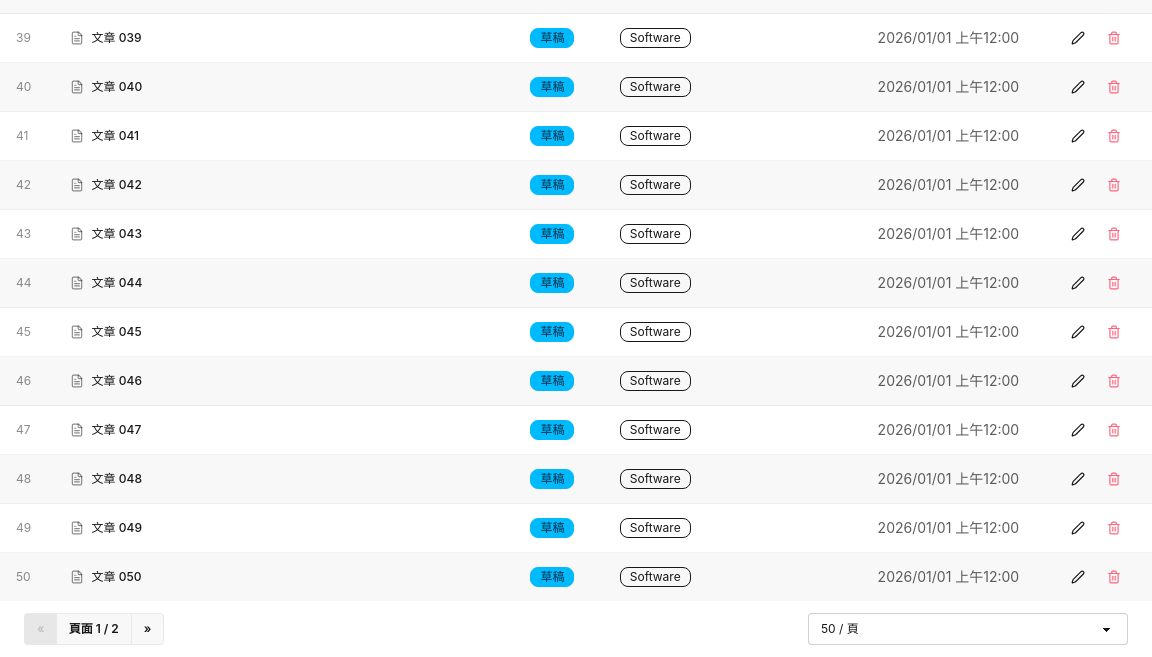
Scenario: ArticleManagement 組件 — 分頁行為 › 點擊下一頁按鈕後，分頁列顯示「頁面 2 / 2」
This screenshot has width=1152, height=657.
(page scrolled)
Click the button with class "join-item" showing "»".
click(148, 629)  # box [131,613,164,645]
(page scrolled)
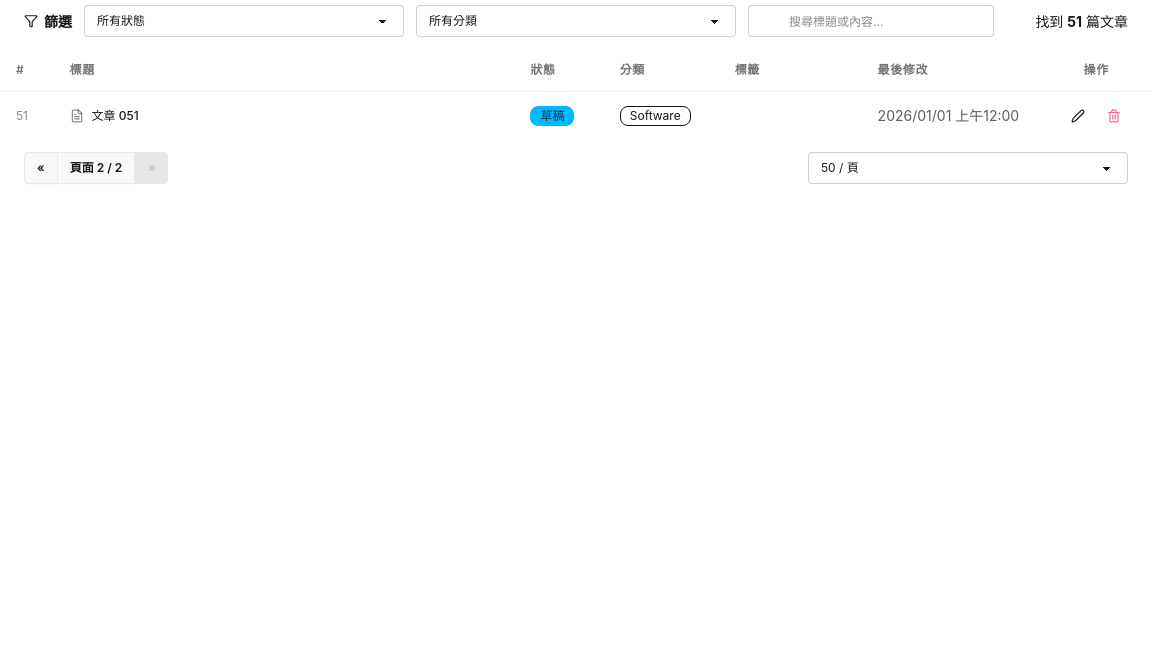
Expected: the element showing "« 頁面 2 / 2 »" is shown, [24,152,1128,184]
